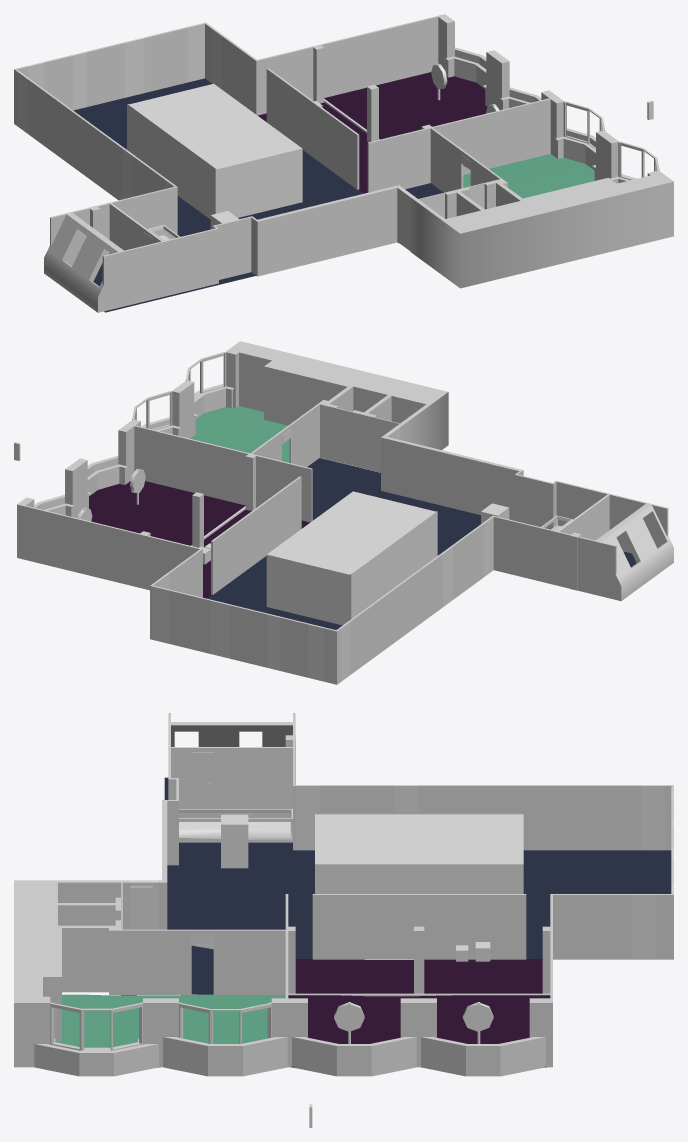
File: 3dsBlockoutOfVrRoom.fbx
3 renders of one model, top to bottom at view 1: azimuth 30°, elevation 25°; view 2: azimuth 150°, elevation 25°; view 3: azimuth 270°, elevation 25°, orthographic. The views are drawn at different scales.
Parts seen in each view (by area): view 1: WRS-Internal Walls, WRS-Outer Walls, Box008, Floor_Lobby, Grass Segments archery, Floor_XR LAB, Box009, WallBlocker001, WallBlocker007, WallBlocker008, Floor_Studio 3.3, WallBlocker006 (+7 smaller); view 2: WRS-Internal Walls, WRS-Outer Walls, Box008, Floor_Lobby, Grass Segments archery, Box009, WallBlocker000, Floor_XR LAB, WallBlocker007, WallBlocker001, WallBlocker008, WallBlocker005 (+6 smaller); view 3: WRS-Internal Walls, WRS-Outer Walls, Floor_Lobby, Box008, Floor_Studio 3.3, Grass Segments archery, Floor_XR LAB, WallBlocker001, Box012, WallBlocker009, WallBlocker004, Hero (+9 smaller).
Boxes of the visible parts, x1=… form: WRS-Internal Walls: x1=14, y1=16, x2=629, y2=311; WRS-Outer Walls: x1=44, y1=14, x2=673, y2=312; Box008: x1=127, y1=83, x2=302, y2=219; Floor_Lobby: x1=73, y1=78, x2=443, y2=312; Grass Segments archery: x1=324, y1=72, x2=487, y2=139; Floor_XR LAB: x1=463, y1=154, x2=594, y2=198; Box009: x1=127, y1=104, x2=302, y2=217; WallBlocker001: x1=109, y1=203, x2=162, y2=253; WallBlocker007: x1=124, y1=37, x2=144, y2=97; WallBlocker008: x1=187, y1=23, x2=204, y2=82; Floor_Studio 3.3: x1=258, y1=102, x2=368, y2=193; WallBlocker006: x1=72, y1=51, x2=86, y2=110; WRS-Internal Walls: x1=24, y1=386, x2=668, y2=684; WRS-Outer Walls: x1=17, y1=341, x2=673, y2=601; Box008: x1=266, y1=491, x2=437, y2=625; Floor_Lobby: x1=207, y1=458, x2=636, y2=629; Grass Segments archery: x1=89, y1=481, x2=245, y2=545; Box009: x1=266, y1=511, x2=437, y2=624; WallBlocker000: x1=320, y1=404, x2=399, y2=472; Floor_XR LAB: x1=190, y1=406, x2=289, y2=462; WallBlocker007: x1=210, y1=600, x2=230, y2=658; WallBlocker001: x1=557, y1=494, x2=609, y2=539; WallBlocker008: x1=152, y1=585, x2=169, y2=643; WallBlocker005: x1=308, y1=624, x2=324, y2=681; WRS-Internal Walls: x1=51, y1=713, x2=673, y2=1050; WRS-Outer Walls: x1=14, y1=722, x2=552, y2=1076; Floor_Lobby: x1=121, y1=777, x2=671, y2=995; Box008: x1=315, y1=814, x2=523, y2=893; Floor_Studio 3.3: x1=291, y1=959, x2=546, y2=1067; Grass Segments archery: x1=288, y1=995, x2=550, y2=1066; Floor_XR LAB: x1=55, y1=994, x2=285, y2=1067; WallBlocker001: x1=171, y1=747, x2=292, y2=808; Box012: x1=179, y1=809, x2=292, y2=840; WallBlocker009: x1=632, y1=894, x2=656, y2=959; WallBlocker004: x1=641, y1=785, x2=664, y2=850; Hero: x1=221, y1=814, x2=248, y2=868.
Size of the model in its own units: 3120 by 269 by 2460.
